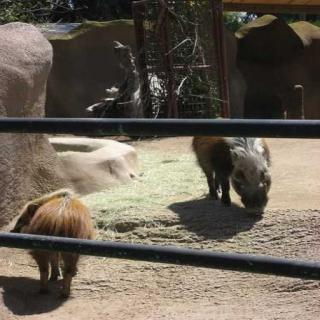Pig: (176, 103, 293, 234), (0, 168, 100, 276)
